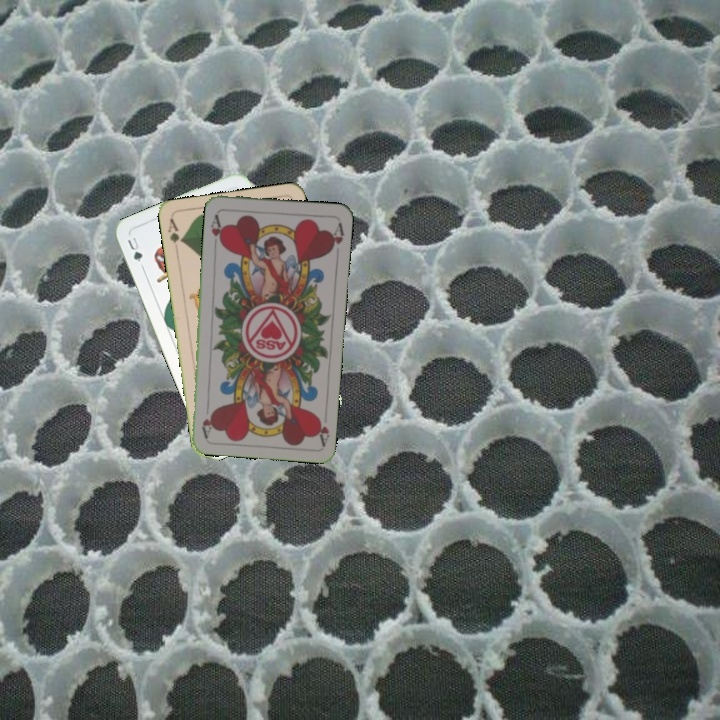GA: (164, 214, 185, 255)
GU: (123, 233, 145, 265)
HA: (207, 210, 226, 250), (312, 412, 332, 447)
